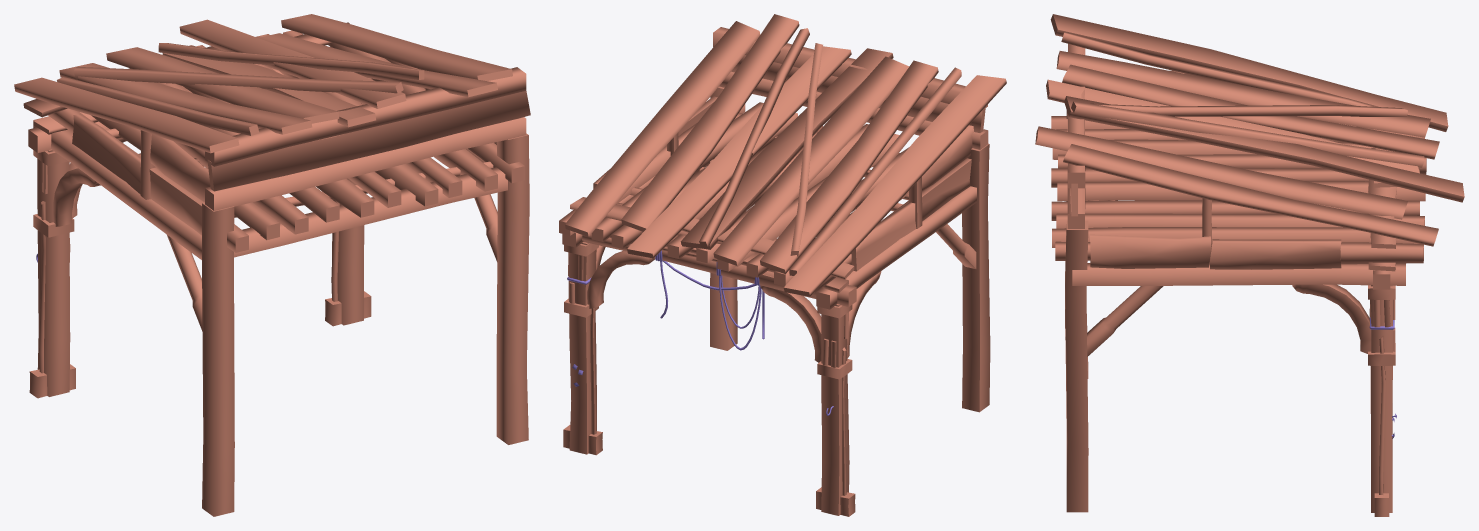
Rendered from woodhut_b.fbx.
The picture shows the model from 3 angles, left to right: view 1: azimuth 30°, elevation 25°; view 2: azimuth 150°, elevation 25°; view 3: azimuth 270°, elevation 25°; orthographic projection. The views are drawn at different scales.
Visible parts, largest first — view 1: Cube.040; view 2: Cube.040, Cube.039; view 3: Cube.040.
Boxes of the visible parts, x1,y1,x2,y2 form: Cube.040: [14, 14, 530, 516]; Cube.040: [559, 14, 1006, 516]; Cube.039: [567, 250, 833, 415]; Cube.040: [1035, 14, 1464, 516].
Bounding box in the file's own units: 5.77 × 6.46 × 6.89.
